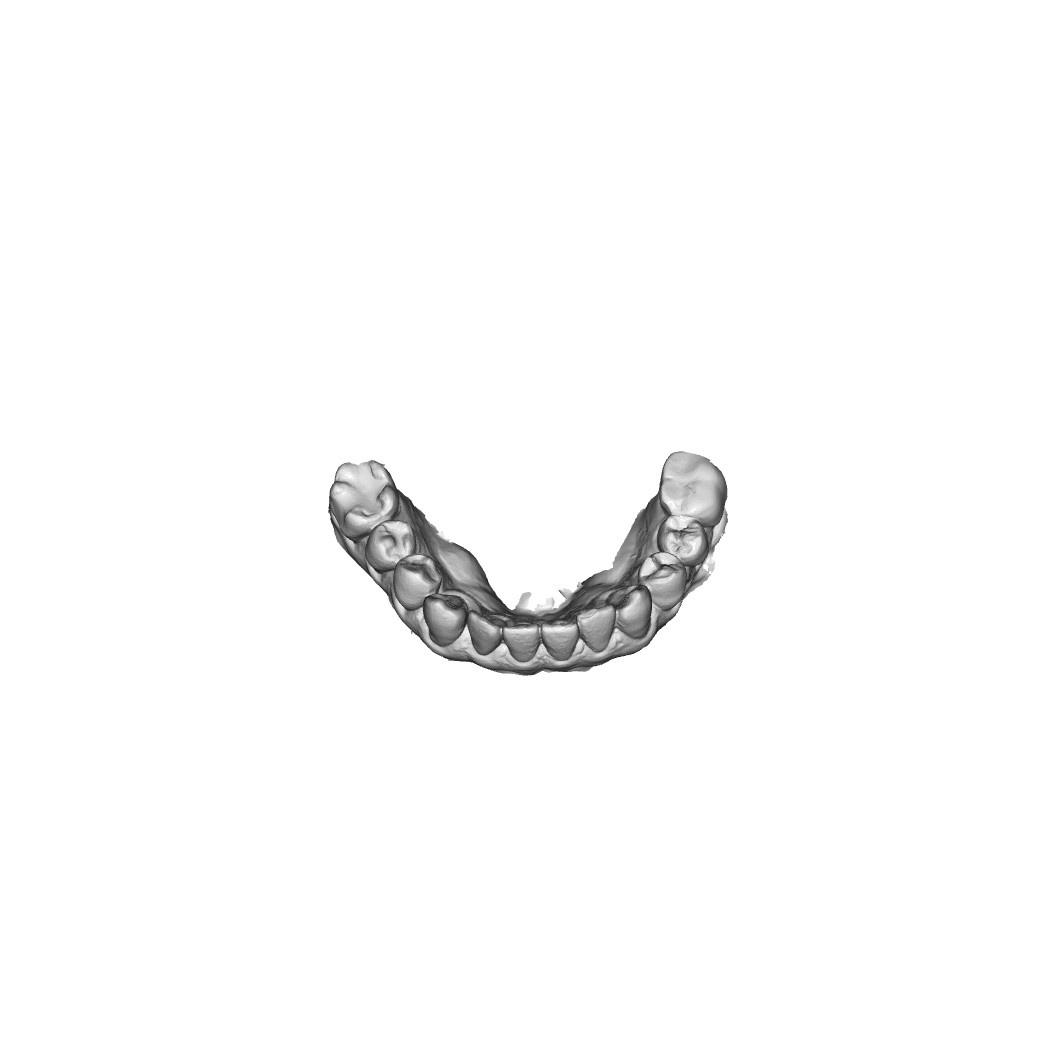canine: (420, 592, 472, 646), (616, 584, 653, 641)
incisor: (543, 615, 584, 664), (466, 610, 506, 660), (578, 604, 616, 655), (504, 616, 542, 666)
molar: (327, 458, 395, 541), (657, 451, 727, 524)
premolar: (655, 515, 711, 568), (368, 518, 421, 573), (388, 555, 439, 611), (642, 551, 688, 613)
